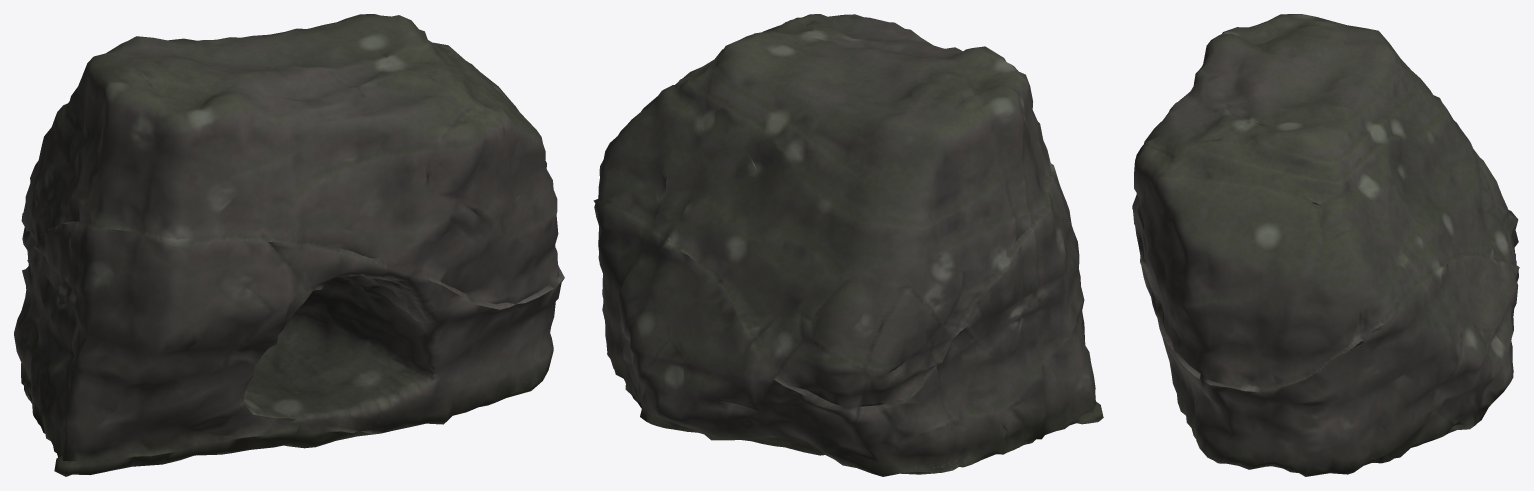
The model's file is cave_arch.glb.
The picture shows the model from 3 angles, left to right: view 1: azimuth 30°, elevation 25°; view 2: azimuth 150°, elevation 25°; view 3: azimuth 270°, elevation 25°; orthographic projection. The views are drawn at different scales.
Visible parts, largest first — view 1: cave_arch; view 2: cave_arch; view 3: cave_arch.
Part boxes in pixels (box(x1,y1,x2,y2)): cave_arch: box(14, 14, 564, 476); cave_arch: box(593, 14, 1103, 476); cave_arch: box(1132, 14, 1519, 476).
Size of the model in its own units: 13.64 by 9.31 by 10.61.
1 material, 1 textured.
